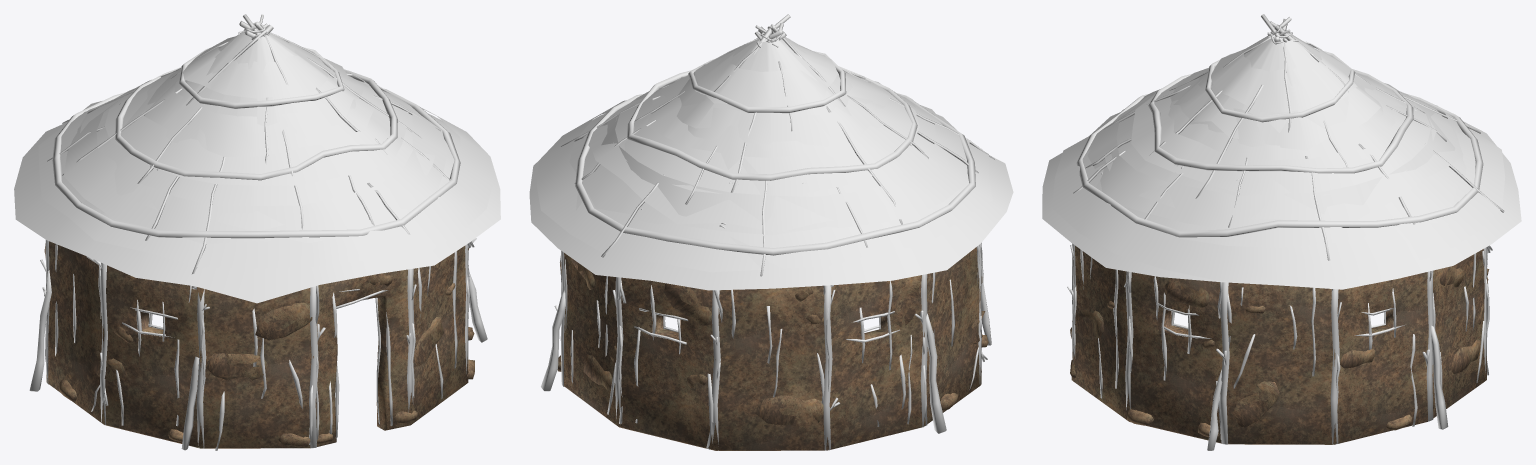
Rendered from lowpoly_african_hut_002.fbx.
3 views of the same model, side by side, from view 1: azimuth 30°, elevation 25°; view 2: azimuth 150°, elevation 25°; view 3: azimuth 270°, elevation 25° (orthographic).
Visible parts, largest first — view 1: lowpoly_african_hut_002; view 2: lowpoly_african_hut_002; view 3: lowpoly_african_hut_002.
Part boxes in pixels (box(x1,y1,x2,y2)): lowpoly_african_hut_002: box(14, 14, 500, 450); lowpoly_african_hut_002: box(529, 14, 1013, 450); lowpoly_african_hut_002: box(1042, 14, 1521, 450).
Size of the model in its own units: 456 by 361 by 458.
